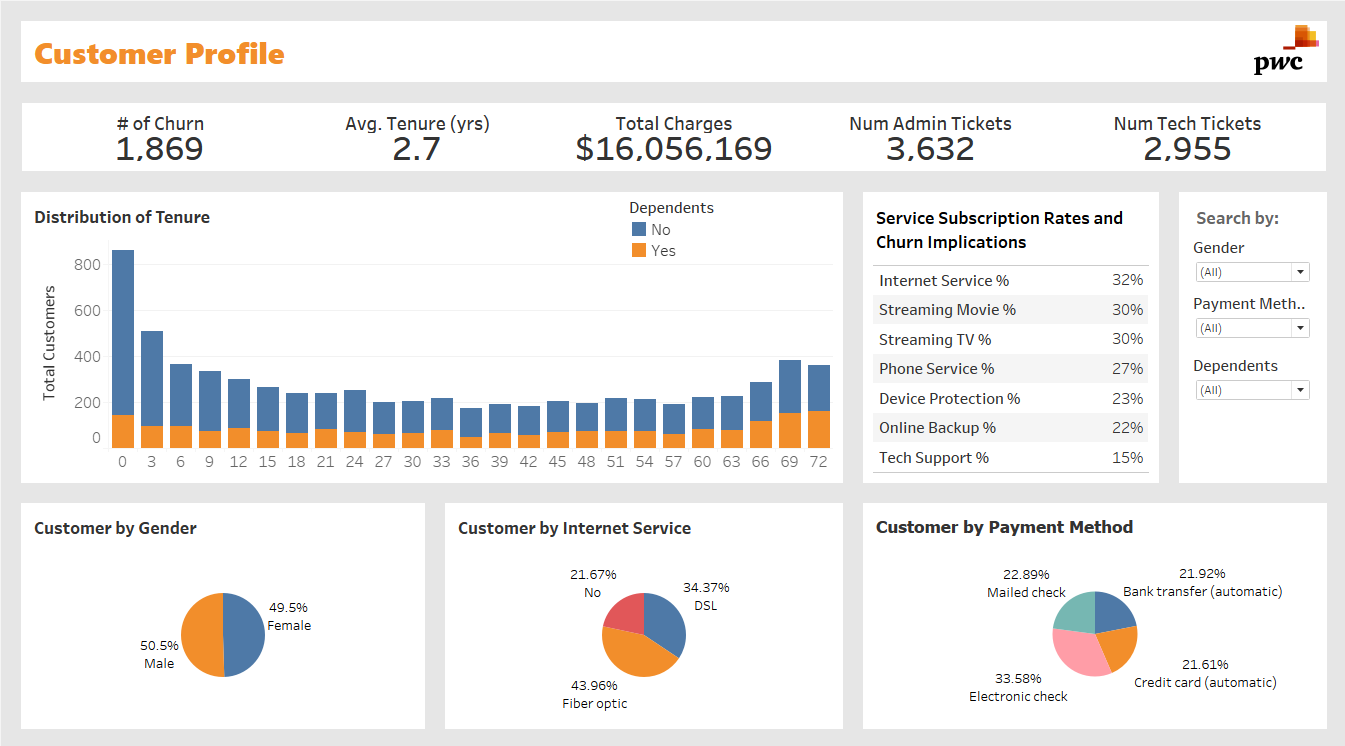

Layout of this report page (visuals, bound fields, positions):
{"tool":"tableau","page":{"name":"Churn Dashboard","canvas":[1366,768],"ordinal":0},"visuals":[{"type":"title","box":[20,20,1326,81]},{"type":"image","param":"C:/Users/tranv/Downloads/PricewaterhouseCoopers_Logo.svg","box":[1263,34,66,50]},{"type":"worksheet","title":"KPIs_D1","mark":"Automatic","box":[21,102,1324,88]},{"type":"worksheet","title":"Historgram Tenure","mark":"Automatic","rows":["customerID"],"cols":["Tenure (bin)"],"box":[20,191,842,311]},{"type":"worksheet","title":"Services Signed up","mark":"Automatic","box":[862,191,316,311]},{"type":"legend","title":"Historgram Tenure","param":"[federated.0kbjv7s0e7rymg1ahm09y08gfm4k].[none:Dependents:nk]","box":[638,206,140,64]},{"type":"text","box":[1198,211,128,31]},{"type":"filter","title":"Pie Customers by Gender","param":"[federated.0kbjv7s0e7rymg1ahm09y08gfm4k].[none:gender:nk]","box":[1198,242,128,56]},{"type":"filter","title":"Pie Customers by Payment method (2)","param":"[federated.0kbjv7s0e7rymg1ahm09y08gfm4k].[none:PaymentMethod:nk]","box":[1198,298,128,62]},{"type":"filter","title":"Historgram Tenure","param":"[federated.0kbjv7s0e7rymg1ahm09y08gfm4k].[none:Dependents:nk]","box":[1198,360,128,56]},{"type":"worksheet","title":"Pie Customers by Gender","mark":"Pie","box":[20,502,424,246]},{"type":"worksheet","title":"Pie Internet Service","mark":"Pie","box":[444,502,418,246]},{"type":"worksheet","title":"Pie Customers by Payment method (2)","mark":"Pie","box":[862,502,484,246]}]}

Visuals, with their boxes in screenshot pixels (x1, y1, x2, y2), scaled from the page's 1366x768 canvas onto the 1345x746 screenshot:
title: select_region(20, 19, 1325, 98)
image: select_region(1244, 33, 1309, 82)
"KPIs_D1" worksheet: select_region(21, 99, 1324, 185)
"Historgram Tenure" worksheet: select_region(20, 186, 849, 488)
"Services Signed up" worksheet: select_region(849, 186, 1160, 488)
"Historgram Tenure" legend: select_region(628, 200, 766, 262)
text: select_region(1180, 205, 1306, 235)
"Pie Customers by Gender" filter: select_region(1180, 235, 1306, 289)
"Pie Customers by Payment method (2)" filter: select_region(1180, 289, 1306, 350)
"Historgram Tenure" filter: select_region(1180, 350, 1306, 404)
"Pie Customers by Gender" worksheet (Pie marks): select_region(20, 488, 437, 727)
"Pie Internet Service" worksheet (Pie marks): select_region(437, 488, 849, 727)
"Pie Customers by Payment method (2)" worksheet (Pie marks): select_region(849, 488, 1325, 727)
